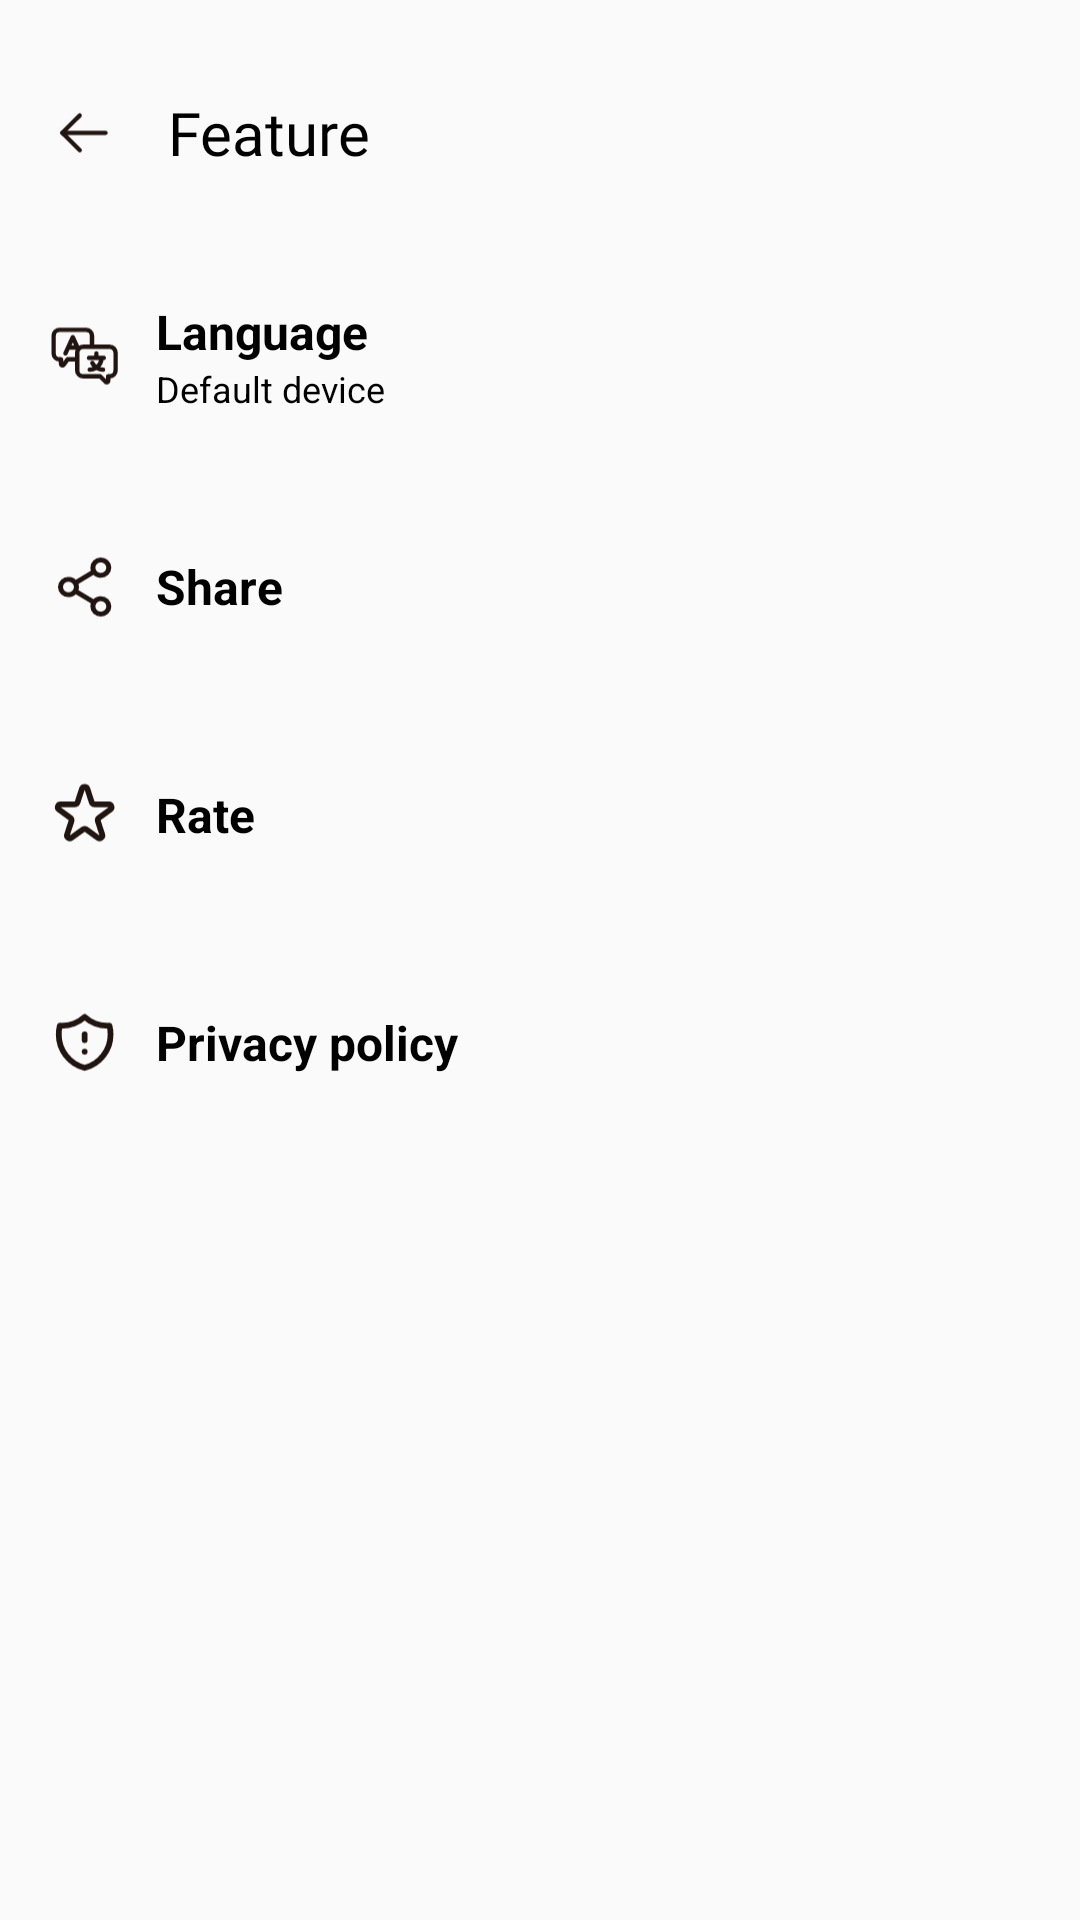

Screen size 1080 x 1920. Icon name, then its box in pixels as (x1, y1, x2, y2):
back: (60, 112, 108, 153)
